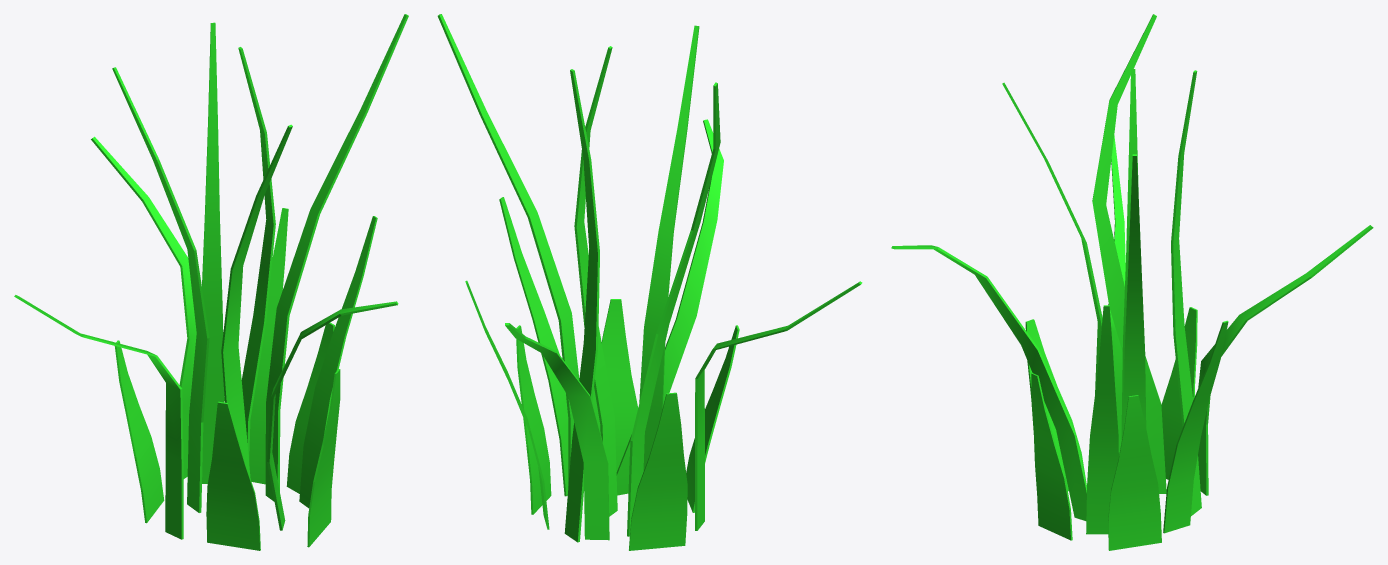
File: grassTuftGLB.glb
3 views of the same model, side by side, from view 1: azimuth 30°, elevation 25°; view 2: azimuth 150°, elevation 25°; view 3: azimuth 270°, elevation 25° (orthographic). The views are drawn at different scales.
Visible parts, largest first — view 1: pPlane5, pPlane2, pPlane12, pPlane3, pPlane4, pPlane9, pPlane1, pPlane7, pPlane10, pPlane8, pPlane11, pPlane13 (+2 smaller); view 2: pPlane11, pPlane4, pPlane5, pPlane8, pPlane6, pPlane2, pPlane3, pPlane1, pPlane13, pPlane9, pPlane14, pPlane7 (+2 smaller); view 3: pPlane14, pPlane3, pPlane9, pPlane6, pPlane10, pPlane2, pPlane13, pPlane5, pPlane8, pPlane11, pPlane7, pPlane1 (+2 smaller).
Part boxes in pixels (x1=…): pPlane5: x1=202, y1=22, x2=224, y2=483; pPlane2: x1=265, y1=14, x2=408, y2=501; pPlane12: x1=206, y1=401, x2=260, y2=550; pPlane3: x1=112, y1=67, x2=209, y2=512; pPlane4: x1=221, y1=124, x2=292, y2=478; pPlane9: x1=299, y1=216, x2=377, y2=508; pPlane1: x1=238, y1=47, x2=275, y2=461; pPlane7: x1=14, y1=295, x2=183, y2=539; pPlane10: x1=249, y1=208, x2=288, y2=484; pPlane8: x1=91, y1=136, x2=196, y2=478; pPlane11: x1=114, y1=340, x2=164, y2=523; pPlane13: x1=307, y1=369, x2=340, y2=547; pPlane11: x1=629, y1=392, x2=687, y2=550; pPlane4: x1=639, y1=25, x2=699, y2=470; pPlane5: x1=564, y1=69, x2=599, y2=542; pPlane8: x1=505, y1=323, x2=609, y2=540; pPlane6: x1=616, y1=119, x2=723, y2=495; pPlane2: x1=437, y1=14, x2=579, y2=485; pPlane3: x1=627, y1=82, x2=720, y2=536; pPlane1: x1=574, y1=46, x2=617, y2=516; pPlane13: x1=592, y1=299, x2=638, y2=471; pPlane9: x1=499, y1=197, x2=568, y2=496; pPlane14: x1=516, y1=325, x2=551, y2=514; pPlane7: x1=695, y1=281, x2=862, y2=530; pPlane14: x1=1108, y1=395, x2=1161, y2=550; pPlane3: x1=1092, y1=14, x2=1166, y2=493; pPlane9: x1=1086, y1=305, x2=1118, y2=534; pPlane6: x1=891, y1=245, x2=1086, y2=520; pPlane10: x1=1163, y1=320, x2=1228, y2=533; pPlane2: x1=1123, y1=154, x2=1146, y2=431; pPlane13: x1=1031, y1=373, x2=1072, y2=540; pPlane5: x1=1171, y1=70, x2=1201, y2=515; pPlane8: x1=1198, y1=225, x2=1373, y2=495; pPlane11: x1=1161, y1=307, x2=1197, y2=479; pPlane7: x1=1108, y1=136, x2=1125, y2=455; pPlane1: x1=1121, y1=69, x2=1138, y2=440.
Bounding box in the file's own units: 0.0214 × 0.0237 × 0.0231.
